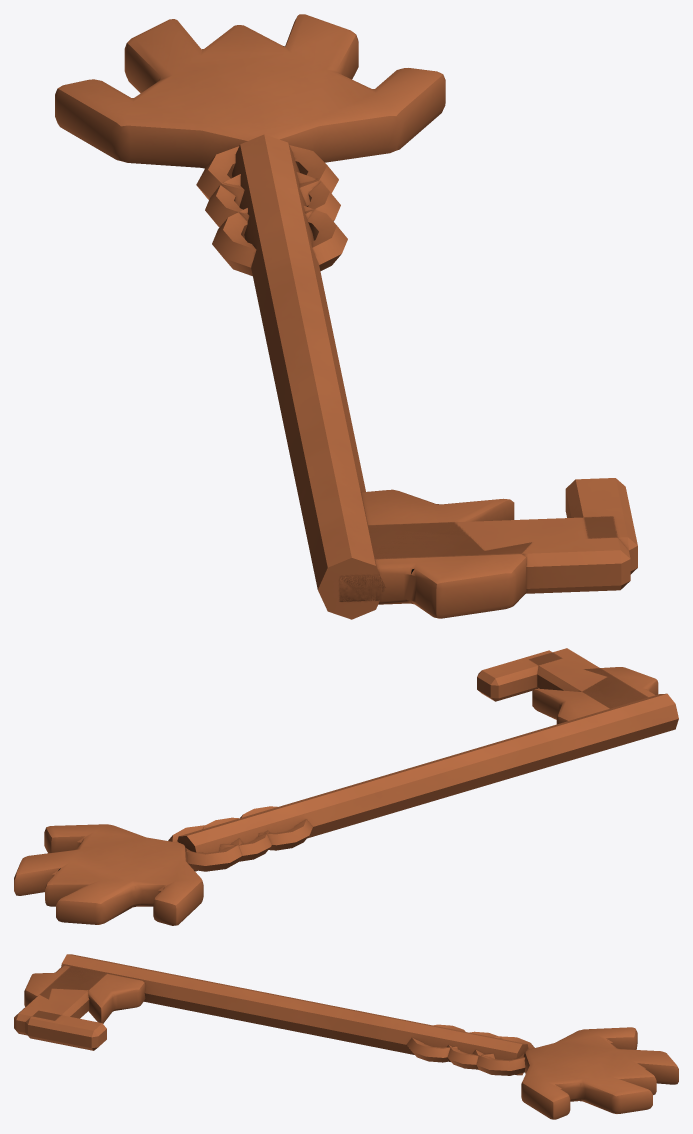
The model's file is item_keys2.glb.
The picture shows the model from 3 angles, top to bottom: view 1: azimuth 30°, elevation 25°; view 2: azimuth 150°, elevation 25°; view 3: azimuth 270°, elevation 25°; orthographic projection. The views are drawn at different scales.
Parts seen in each view (by area): view 1: item_keys2; view 2: item_keys2; view 3: item_keys2.
Boxes of the visible parts, x1,y1,x2,y2 form: item_keys2: [55, 14, 637, 619]; item_keys2: [14, 648, 678, 925]; item_keys2: [14, 954, 678, 1119].
Bounding box in the file's own units: 0.3485 × 0.034 × 0.6613.
Materials: 1 (1 with a texture image).
